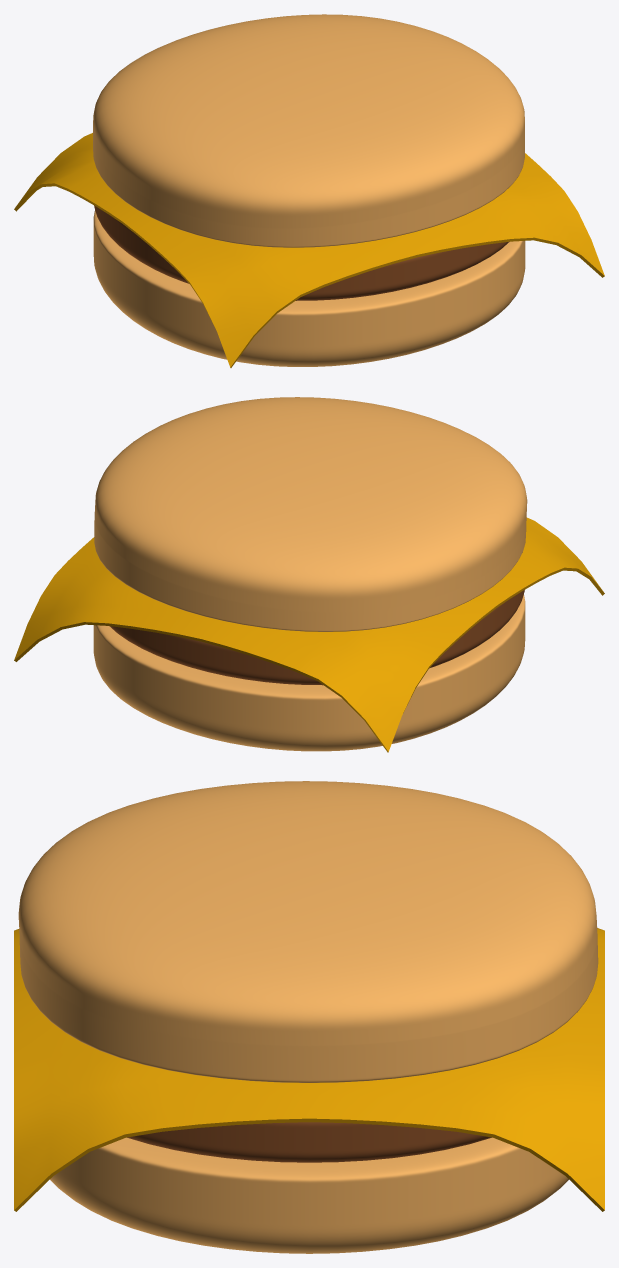
The model's file is burguer-smooth.gltf.
3 renders of one model, top to bottom at view 1: azimuth 30°, elevation 25°; view 2: azimuth 150°, elevation 25°; view 3: azimuth 270°, elevation 25°, orthographic. The views are drawn at different scales.
Parts seen in each view (by area): view 1: BunMaterial, Plane, Cube, Cube.001; view 2: BunMaterial, Plane, Cube, Cube.001; view 3: BunMaterial, Plane, Cube, Cube.001.
Part boxes in pixels (bbox=[...]): BunMaterial: bbox=[93, 14, 524, 247]; Plane: bbox=[14, 133, 604, 367]; Cube: bbox=[93, 210, 525, 366]; Cube.001: bbox=[94, 205, 509, 300]; BunMaterial: bbox=[94, 397, 527, 631]; Plane: bbox=[14, 517, 604, 752]; Cube: bbox=[93, 594, 525, 751]; Cube.001: bbox=[109, 590, 524, 685]; BunMaterial: bbox=[18, 781, 598, 1082]; Plane: bbox=[14, 928, 604, 1211]; Cube: bbox=[50, 1137, 568, 1253]; Cube.001: bbox=[127, 1122, 491, 1162].
Size of the model in its own units: 10.45 by 5.92 by 10.45.
